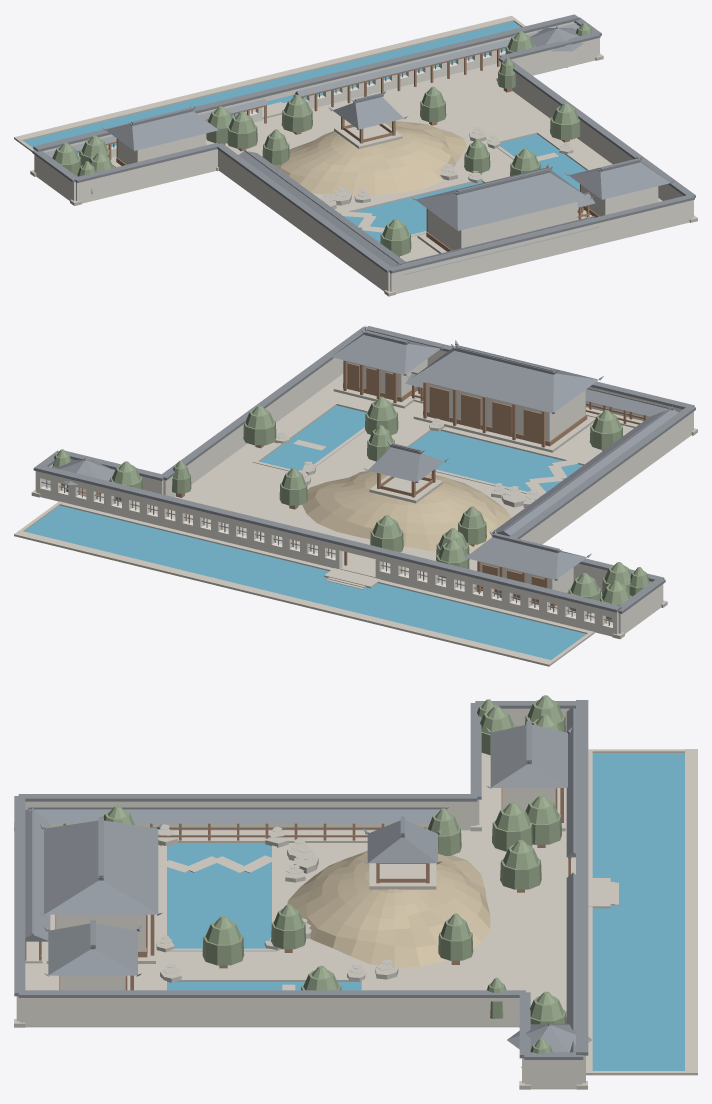
Rendered from canglangting.glb.
3 views of the same model, one above another, from view 1: azimuth 30°, elevation 25°; view 2: azimuth 150°, elevation 25°; view 3: azimuth 270°, elevation 25° (orthographic). The views are drawn at different scales.
Visible parts, largest first — view 1: clt_tile, clt_wall, clt_stone, clt_leaf, clt_earth, clt_water, clt_wood, clt_rock; view 2: clt_tile, clt_stone, clt_water, clt_wall, clt_leaf, clt_earth, clt_wood, clt_rock; view 3: clt_tile, clt_stone, clt_water, clt_wall, clt_leaf, clt_earth, clt_wood, clt_rock.
Part boxes in pixels (x1=…): clt_tile: x1=32, y1=14, x2=695, y2=274; clt_wall: x1=34, y1=21, x2=693, y2=293; clt_stone: x1=14, y1=15, x2=697, y2=296; clt_leaf: x1=51, y1=22, x2=591, y2=255; clt_earth: x1=274, y1=121, x2=466, y2=195; clt_water: x1=23, y1=21, x2=586, y2=242; clt_wood: x1=76, y1=29, x2=599, y2=257; clt_rock: x1=320, y1=126, x2=573, y2=209; clt_tile: x1=33, y1=325, x2=695, y2=625; clt_stone: x1=14, y1=374, x2=697, y2=666; clt_water: x1=24, y1=405, x2=586, y2=659; clt_wall: x1=35, y1=350, x2=693, y2=636; clt_leaf: x1=52, y1=396, x2=650, y2=620; clt_earth: x1=302, y1=470, x2=510, y2=551; clt_wood: x1=61, y1=360, x2=647, y2=623; clt_rock: x1=274, y1=418, x2=540, y2=507; clt_tile: x1=14, y1=700, x2=591, y2=1059; clt_stone: x1=14, y1=749, x2=697, y2=1089; clt_water: x1=167, y1=753, x2=684, y2=1070; clt_wall: x1=16, y1=708, x2=585, y2=1088; clt_leaf: x1=103, y1=695, x2=566, y2=1053; clt_earth: x1=287, y1=850, x2=490, y2=968; clt_wood: x1=25, y1=788, x2=571, y2=990; clt_rock: x1=156, y1=824, x2=398, y2=982.
Size of the model in its own units: 103 by 11.77 by 83.9.
